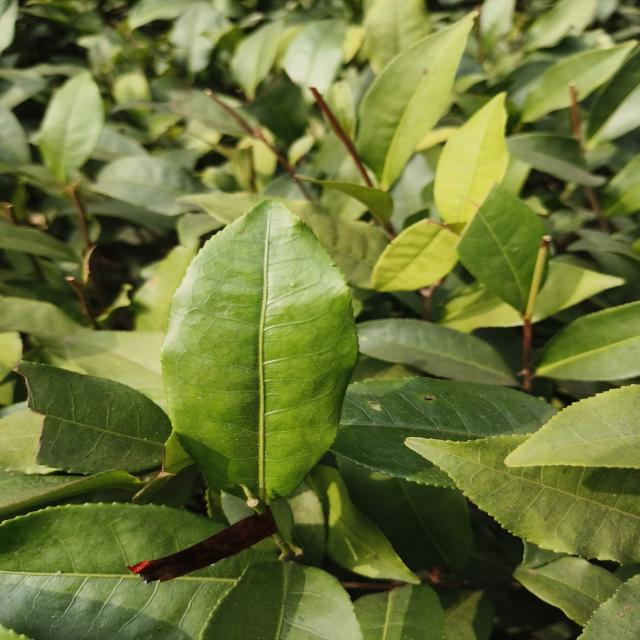Leaf: (161, 201, 358, 504), (0, 503, 277, 640), (409, 436, 640, 564), (331, 377, 555, 487), (356, 12, 476, 190), (16, 361, 171, 474), (337, 457, 471, 574), (306, 465, 420, 584), (201, 560, 362, 640), (506, 385, 640, 469), (458, 184, 545, 313), (356, 318, 518, 386), (434, 92, 508, 224), (282, 199, 390, 288), (521, 41, 636, 122), (537, 301, 640, 381), (68, 331, 166, 410), (513, 556, 622, 626), (38, 72, 104, 182), (92, 156, 204, 215), (0, 470, 144, 515), (372, 218, 459, 291), (133, 238, 199, 333), (532, 261, 625, 322), (506, 132, 605, 187), (0, 296, 91, 355), (586, 49, 640, 146), (364, 0, 431, 75), (354, 585, 445, 640), (298, 176, 393, 225), (244, 73, 308, 144), (170, 0, 231, 73), (437, 281, 522, 332), (285, 20, 345, 92), (231, 22, 283, 100), (0, 408, 58, 474), (0, 216, 81, 263), (524, 0, 596, 51), (171, 92, 245, 136), (436, 589, 494, 640), (179, 193, 263, 224), (602, 154, 640, 217), (0, 105, 31, 167), (112, 72, 151, 104)
